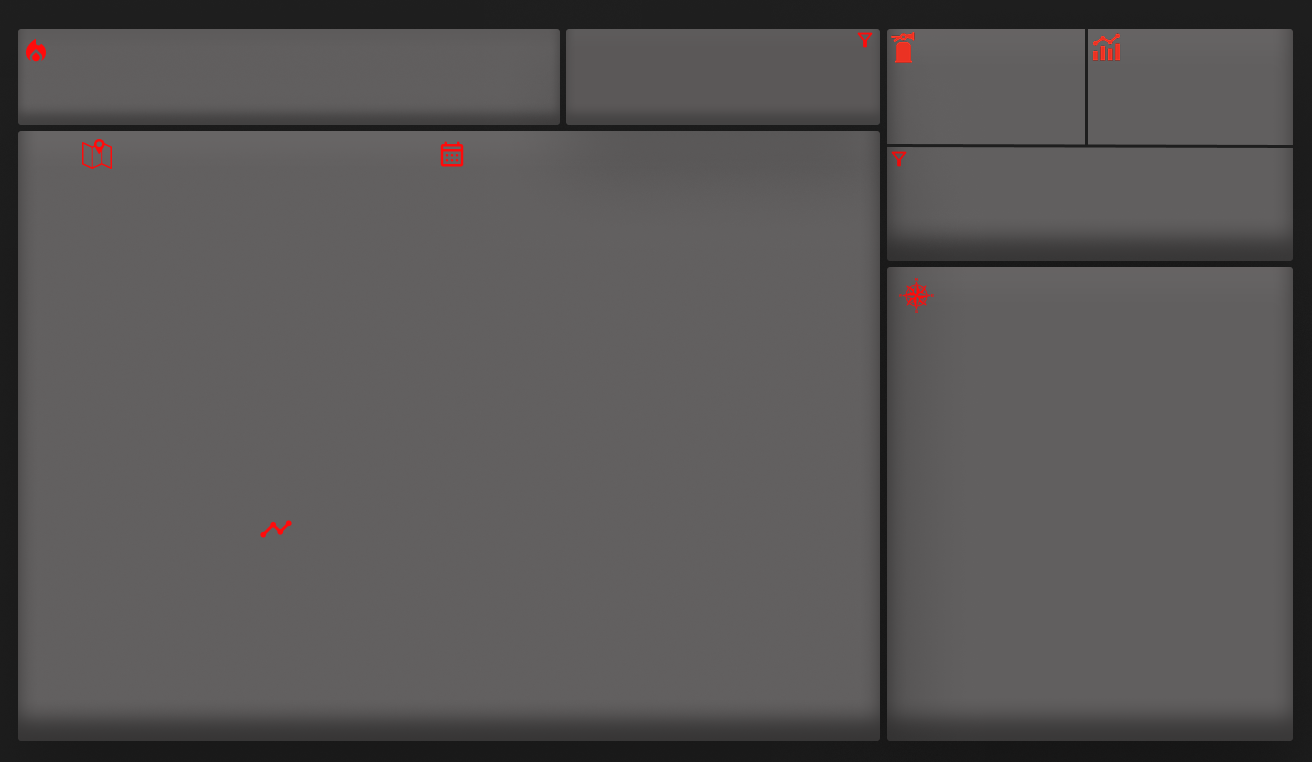

The dashboard page shown, as its layout file describes it:
{"tool":"powerbi","page":{"name":"Página 1","canvas":[1280,720],"ordinal":0},"visuals":[{"type":"card","title":"Total de Incêndios","fields":{"Values":["Medidas.Total de Incêdios"]},"box":[864.3,30.3,207,96.8],"z":0},{"type":"slicer","title":"Período","fields":{"Values":["amazon.year"]},"box":[553.5,7,302.3,101.2],"z":1000},{"type":"card","title":"Média de Incêndios","fields":{"Values":["Medidas.Média de Incendios"]},"box":[1078.6,30.3,187.6,96.8],"z":2000},{"type":"barChart","title":"Distribuição por Estados","fields":{"Category":["amazon.state"],"Y":["Sum(amazon.number)"]},"box":[7.3,116.2,412.8,354.7],"z":3000},{"type":"lineChart","title":"Evolução de Incêndios (1998-2017)","fields":{"Y":["Sum(amazon.number)"],"Category":["amazon.year"]},"box":[3.6,489,864.3,231.2],"z":4000},{"type":"slicer","title":"Região","fields":{"Values":["amazon.Regiao"]},"box":[1131.4,147.7,148.8,72.1],"z":5000},{"type":"hundredPercentStackedColumnChart","title":"Distribuição Mensal de Incêndios por Região","fields":{"Y":["Sum(amazon.number)"],"Series":["amazon.Regiao"],"Category":["amazon.month"]},"box":[432.1,116.2,435.8,354.7],"z":6000},{"type":"map","title":"Distribuição Geográfica de Incêndios","fields":{"Category":["amazon.state"],"Size":["Sum(amazon.number)"]},"box":[885.2,294.7,386,412.3],"z":7000},{"type":"slicer","title":"UF","fields":{"Values":["amazon.state"]},"box":[994.2,147.7,137.2,72.1],"z":8000},{"type":"textbox","title":"Monitoramento de Incêndios no Brasil (1998 - 2017)","box":[12.8,3.5,537.2,104.7],"z":9000},{"type":"textbox","box":[929.7,253,341.4,49.6],"z":10000},{"type":"textbox","title":"Total de Incêndios","box":[877.6,10.9,175.5,37.5],"z":11000},{"type":"textbox","title":"Média de Incêdios","box":[996.2,10.9,269.9,37.5],"z":12000},{"type":"slicer","title":"Mês","fields":{"Values":["amazon.month"]},"box":[875.6,147.7,118.6,72.1],"z":12001}]}

Visuals, with their boxes in screenshot pixels (x1, y1, x2, y2):
"Total de Incêndios" card: {"left": 877, "top": 44, "right": 1086, "bottom": 142}
"Período" slicer: {"left": 563, "top": 21, "right": 868, "bottom": 123}
"Média de Incêndios" card: {"left": 1094, "top": 44, "right": 1283, "bottom": 142}
"Distribuição por Estados" barChart: {"left": 11, "top": 131, "right": 428, "bottom": 490}
"Evolução de Incêndios (1998-2017)" lineChart: {"left": 7, "top": 508, "right": 881, "bottom": 742}
"Região" slicer: {"left": 1147, "top": 163, "right": 1297, "bottom": 236}
"Distribuição Mensal de Incêndios por Região" hundredPercentStackedColumnChart: {"left": 440, "top": 131, "right": 881, "bottom": 490}
"Distribuição Geográfica de Incêndios" map: {"left": 898, "top": 312, "right": 1288, "bottom": 728}
"UF" slicer: {"left": 1008, "top": 163, "right": 1147, "bottom": 236}
"Monitoramento de Incêndios no Brasil (1998 - 2017)" textbox: {"left": 16, "top": 17, "right": 559, "bottom": 123}
textbox: {"left": 943, "top": 269, "right": 1288, "bottom": 320}
"Total de Incêndios" textbox: {"left": 891, "top": 25, "right": 1068, "bottom": 63}
"Média de Incêdios" textbox: {"left": 1010, "top": 25, "right": 1283, "bottom": 63}
"Mês" slicer: {"left": 889, "top": 163, "right": 1008, "bottom": 236}
